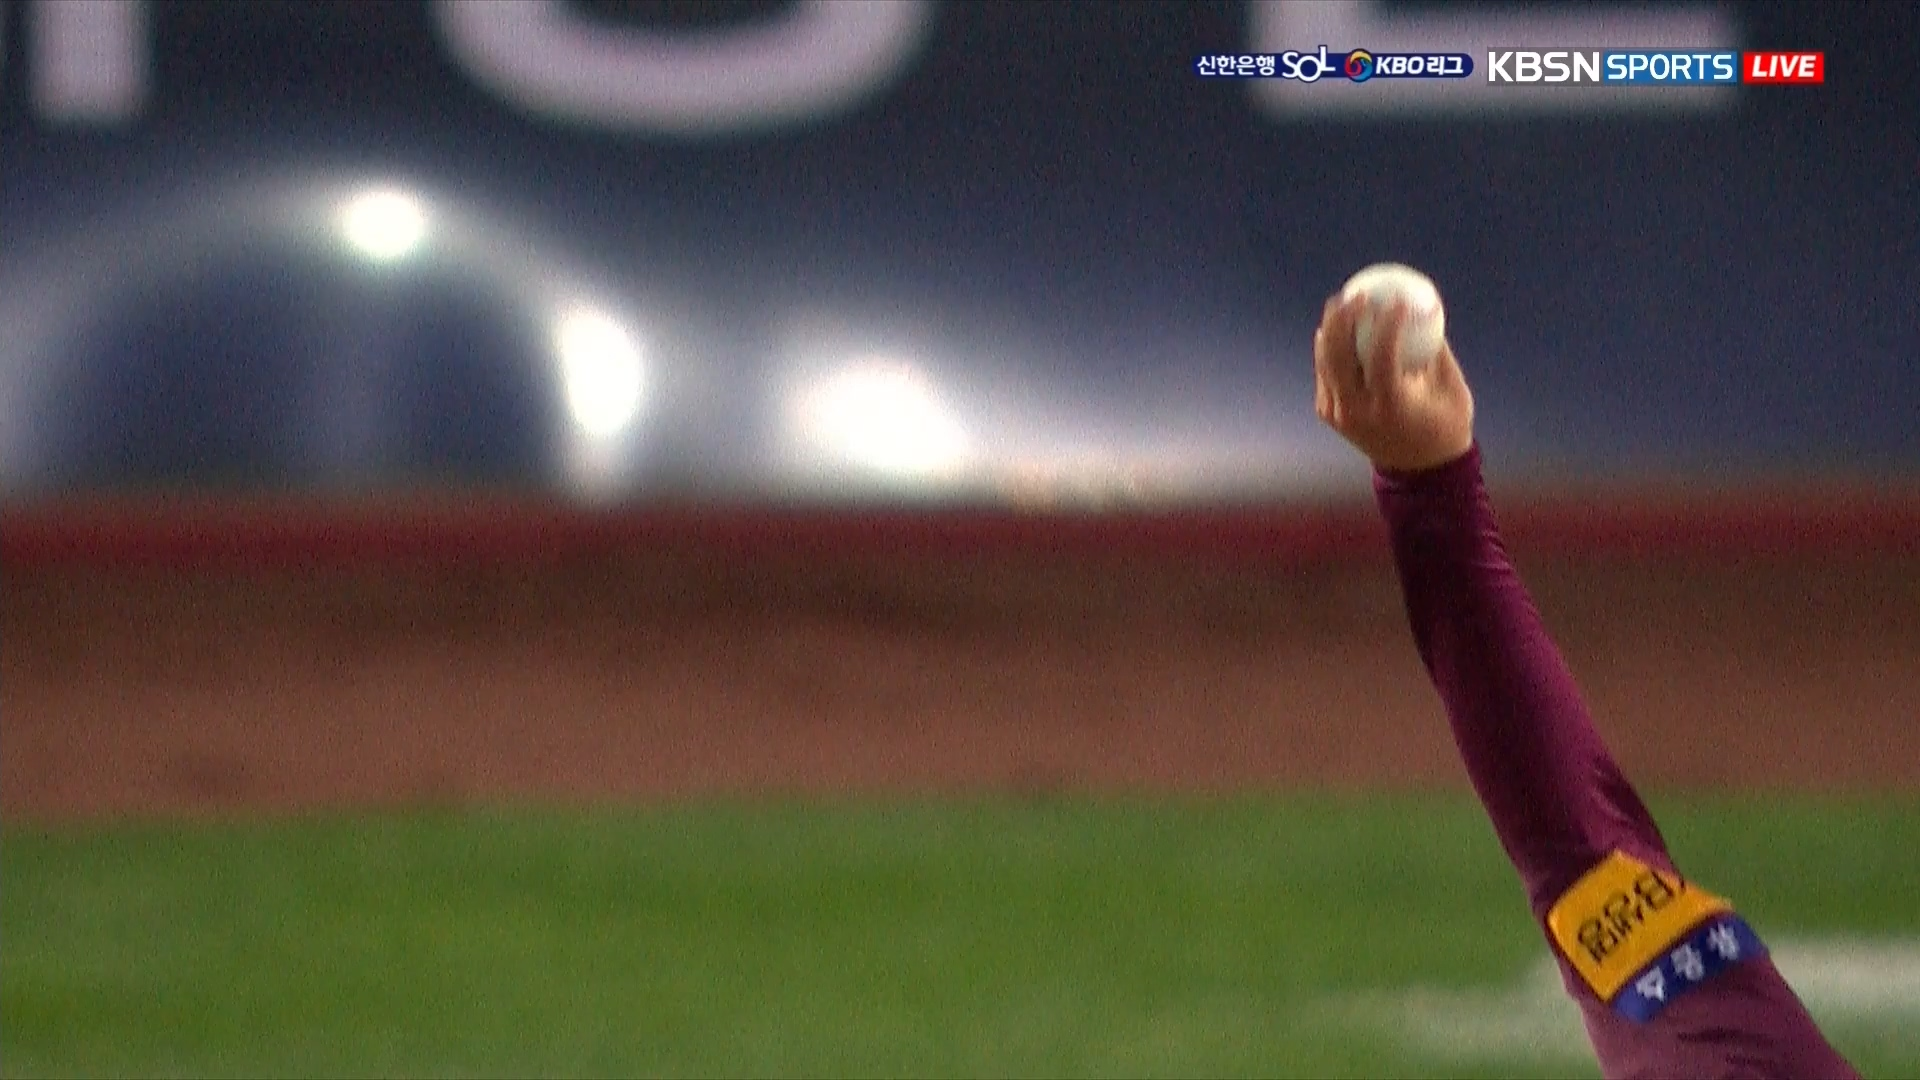zoomin_hand: (1290, 228, 1672, 851)
